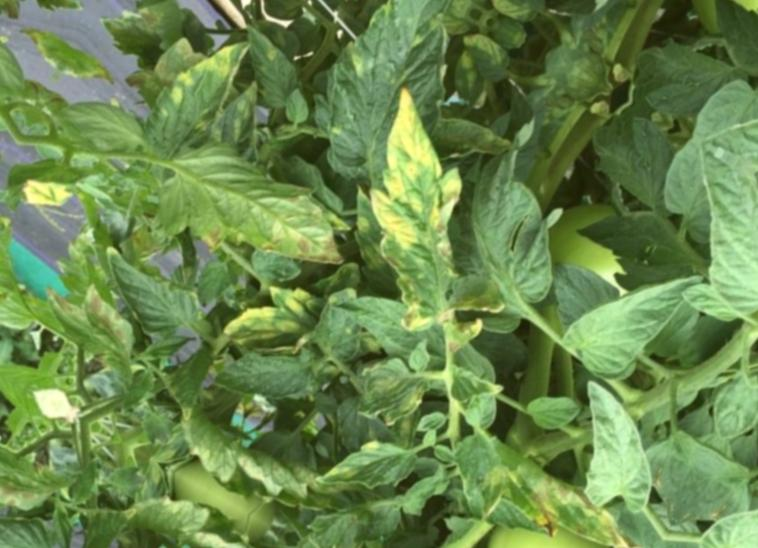Tomato mold leaf: (304, 84, 533, 328), (116, 106, 361, 319), (546, 226, 701, 400), (624, 138, 758, 328), (442, 427, 639, 548), (537, 371, 690, 524), (66, 231, 224, 365), (138, 23, 263, 181), (40, 76, 161, 179), (339, 334, 441, 437)
